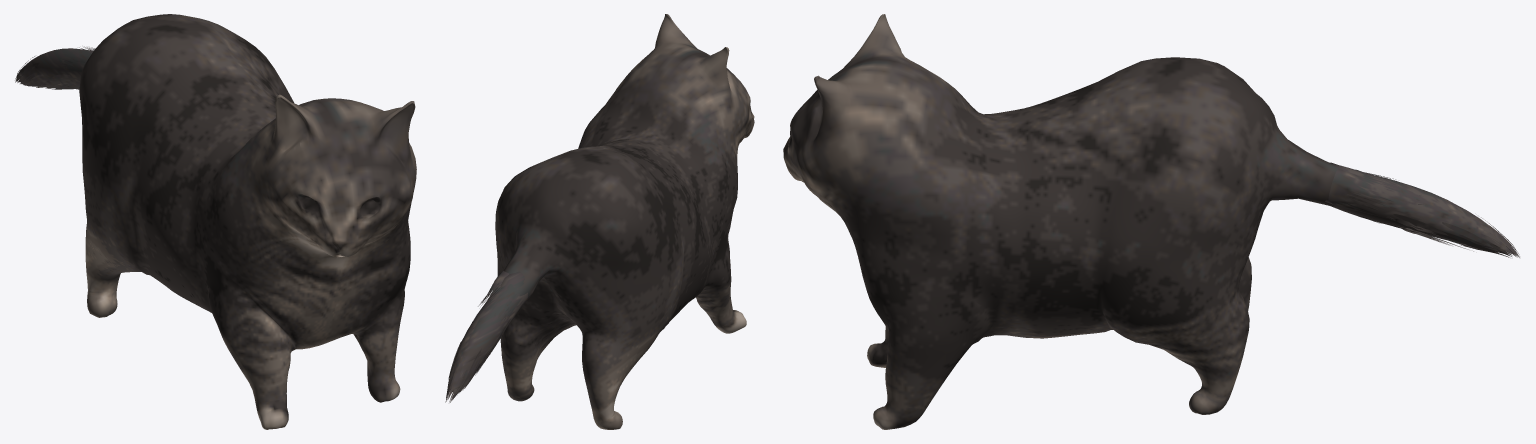
The model's file is catWeapon.fbx.
3 renders of one model, left to right at view 1: azimuth 30°, elevation 25°; view 2: azimuth 150°, elevation 25°; view 3: azimuth 270°, elevation 25°, orthographic. The views are drawn at different scales.
Parts seen in each view (by area): view 1: Muchkin1.002; view 2: Muchkin1.002; view 3: Muchkin1.002.
Part boxes in pixels (x1=…): Muchkin1.002: x1=15, y1=14, x2=416, y2=429; Muchkin1.002: x1=445, y1=14, x2=754, y2=429; Muchkin1.002: x1=783, y1=14, x2=1519, y2=429.
Size of the model in its own units: 23.92 by 38.66 by 72.42.
Materials: 1 (1 with a texture image).
